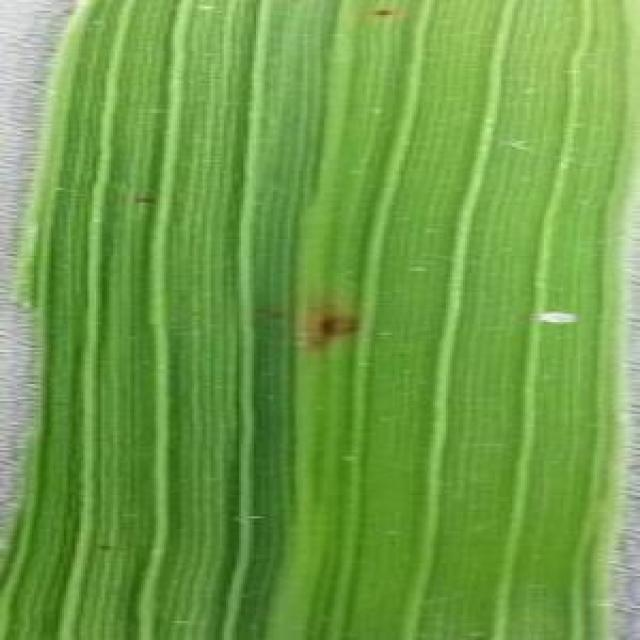brownspots: (301, 305, 365, 350), (367, 2, 397, 19)
